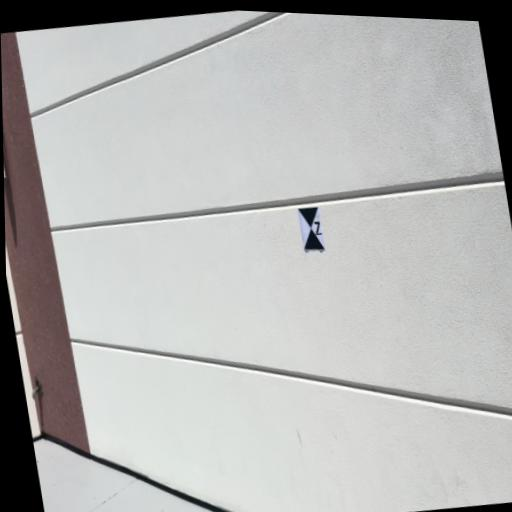target7: (298, 206, 326, 253)
